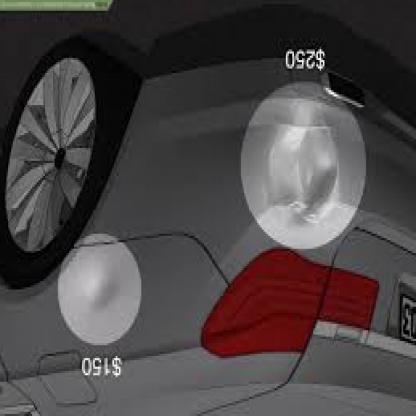dent: (263, 127, 342, 218), (69, 257, 133, 324)
